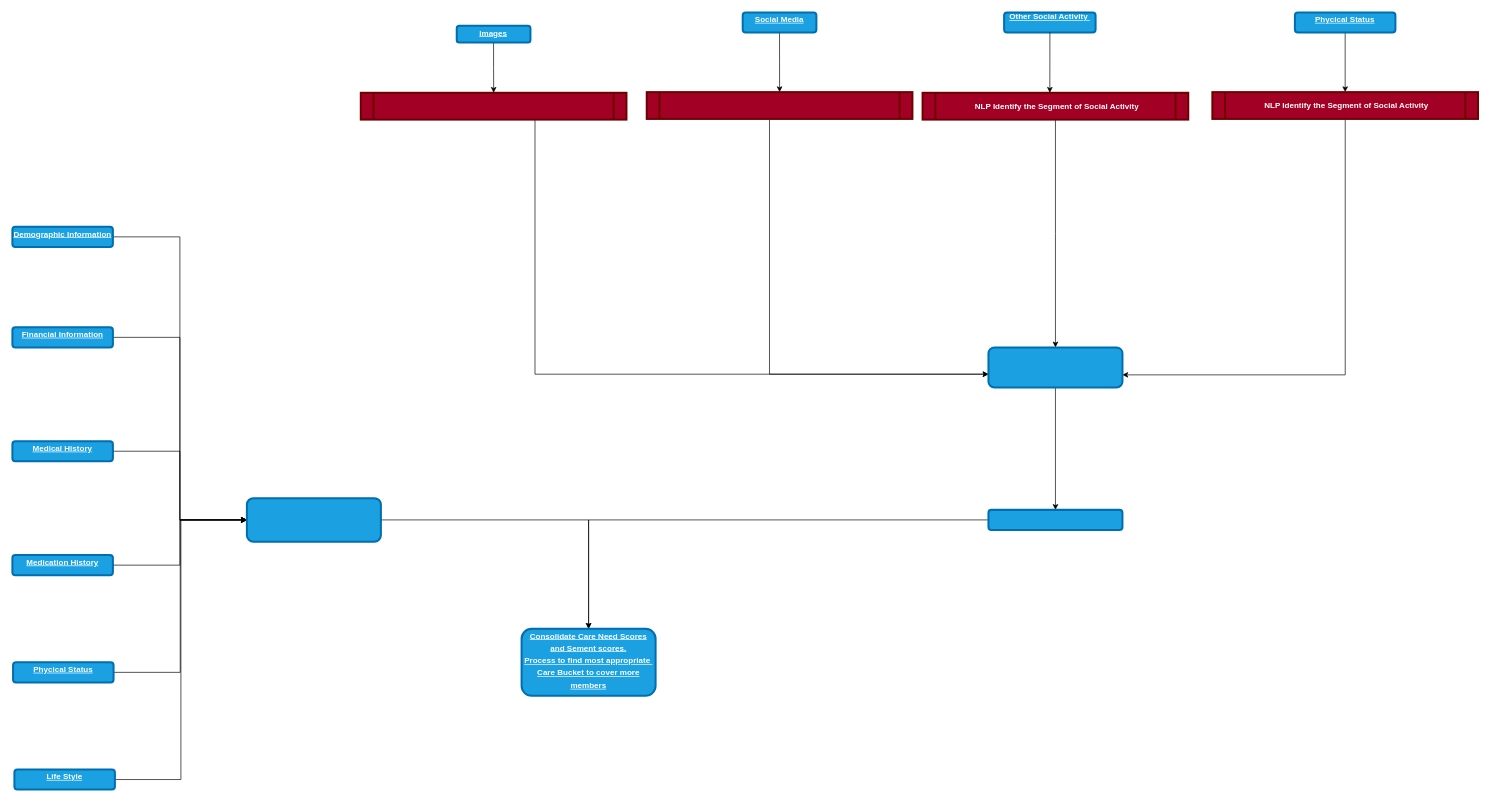
Image size: 1491x802. Some labels were removed from this diagram. The shapes that lost their labels are listed below. From the top down, each one's centre as x and y in pixels, then its label:
At pixel 493 105: "Identify the condition and location of Patient".
At pixel 779 105: "NLP Identify the Segment of Social Media".
At pixel 1055 367: "Consolidate all segments identified along with scores".
At pixel 314 519: "Consolidate the scores and add care needed score".
At pixel 1055 520: "Pick top 2 segments".
